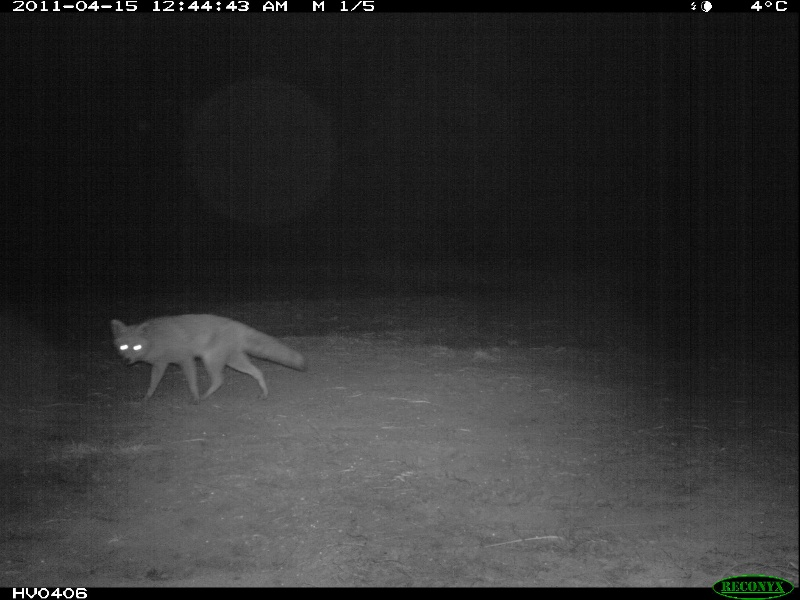fox: (108, 314, 311, 399)
